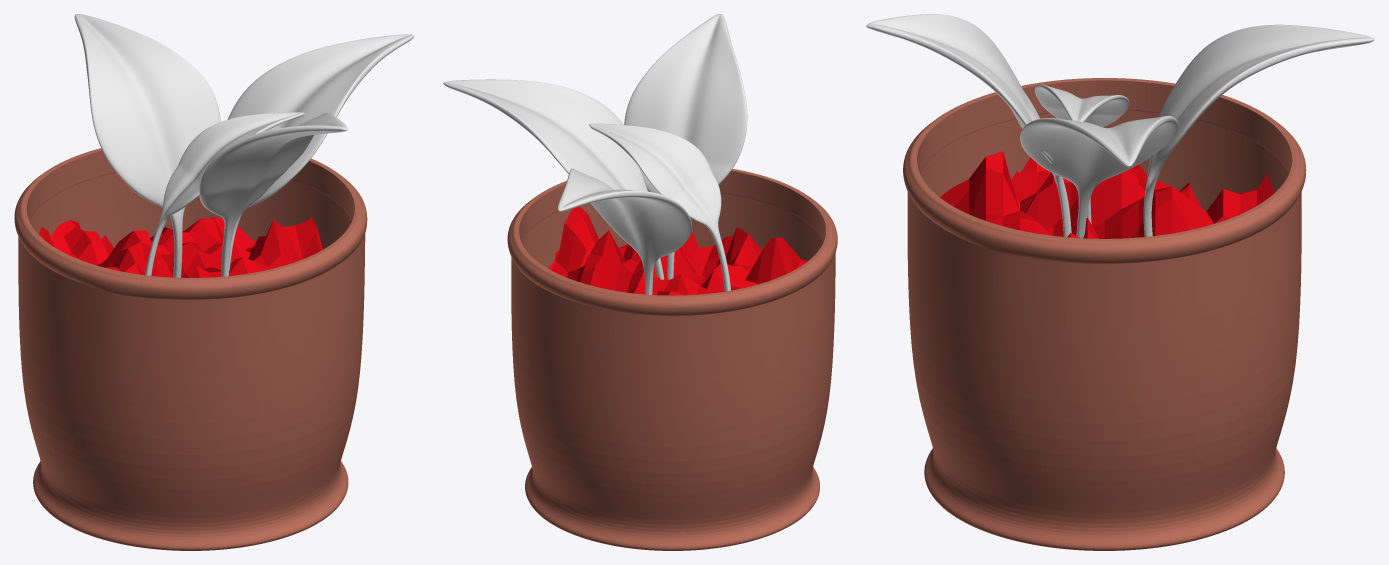
File: Pot1.fbx
3 views of the same model, side by side, from view 1: azimuth 30°, elevation 25°; view 2: azimuth 150°, elevation 25°; view 3: azimuth 270°, elevation 25° (orthographic). The views are drawn at different scales.
Parts seen in each view (by area): view 1: FlowerPot; view 2: FlowerPot; view 3: FlowerPot.
Part boxes in pixels (x1,y1,x2,y2): FlowerPot: [14, 14, 414, 550]; FlowerPot: [443, 14, 837, 550]; FlowerPot: [866, 14, 1374, 550].
Bounding box in the file's own units: 257 × 267 × 256.
